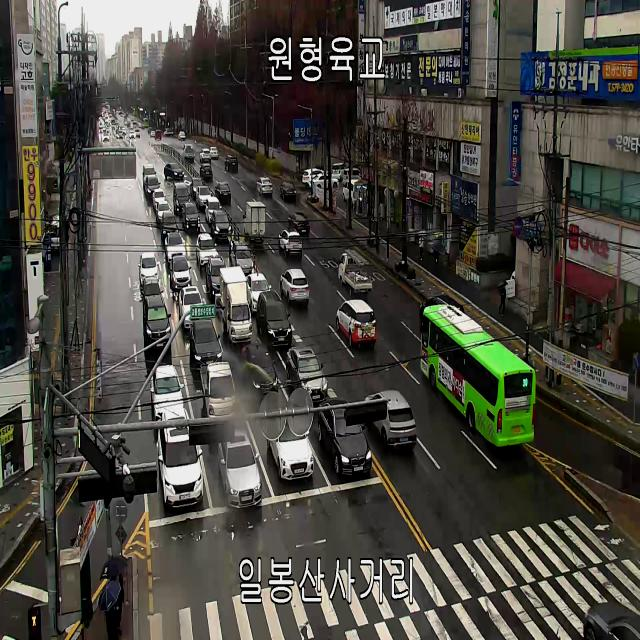Bus: (420, 304, 536, 448), (144, 119, 149, 128)
Car: (157, 407, 204, 508), (318, 399, 372, 477), (218, 430, 262, 509), (364, 390, 416, 448), (267, 417, 314, 480), (286, 346, 328, 403), (583, 601, 640, 639), (256, 291, 292, 349), (150, 365, 185, 422), (243, 344, 279, 399), (336, 299, 376, 348), (190, 318, 222, 371), (420, 294, 464, 328), (144, 296, 171, 350), (280, 268, 309, 306), (179, 286, 205, 328), (246, 272, 272, 312), (206, 256, 227, 299), (196, 233, 218, 270), (138, 252, 160, 288), (170, 256, 192, 289), (278, 228, 302, 258), (232, 242, 254, 274), (165, 232, 186, 263), (141, 283, 161, 315), (211, 210, 232, 240), (173, 182, 191, 216), (342, 179, 362, 206), (288, 212, 310, 236), (302, 168, 328, 188), (160, 212, 178, 239), (182, 202, 200, 228), (309, 173, 339, 188), (205, 197, 222, 222), (196, 185, 212, 208), (156, 201, 172, 224), (164, 162, 184, 180), (146, 176, 161, 199), (342, 169, 362, 186), (142, 164, 156, 187), (214, 182, 231, 200), (280, 182, 296, 200), (153, 189, 166, 210), (256, 177, 272, 194), (332, 162, 344, 182), (183, 143, 195, 163), (225, 155, 238, 171), (200, 163, 212, 180), (313, 167, 328, 179), (200, 148, 211, 163), (210, 147, 219, 160), (154, 130, 162, 140), (164, 129, 174, 136), (178, 132, 186, 140), (129, 131, 136, 139), (103, 134, 109, 142), (135, 129, 140, 138), (118, 130, 123, 139), (150, 130, 155, 138), (122, 128, 126, 135), (148, 127, 152, 133)
Truck: (219, 266, 253, 344), (200, 361, 236, 418), (338, 250, 372, 296), (243, 202, 266, 244), (50, 214, 60, 250)
